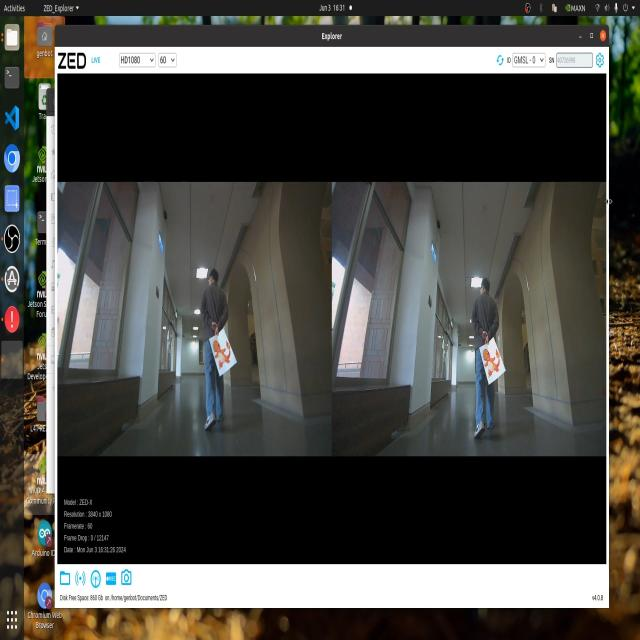red: (205, 330, 237, 376), (477, 338, 507, 379)
